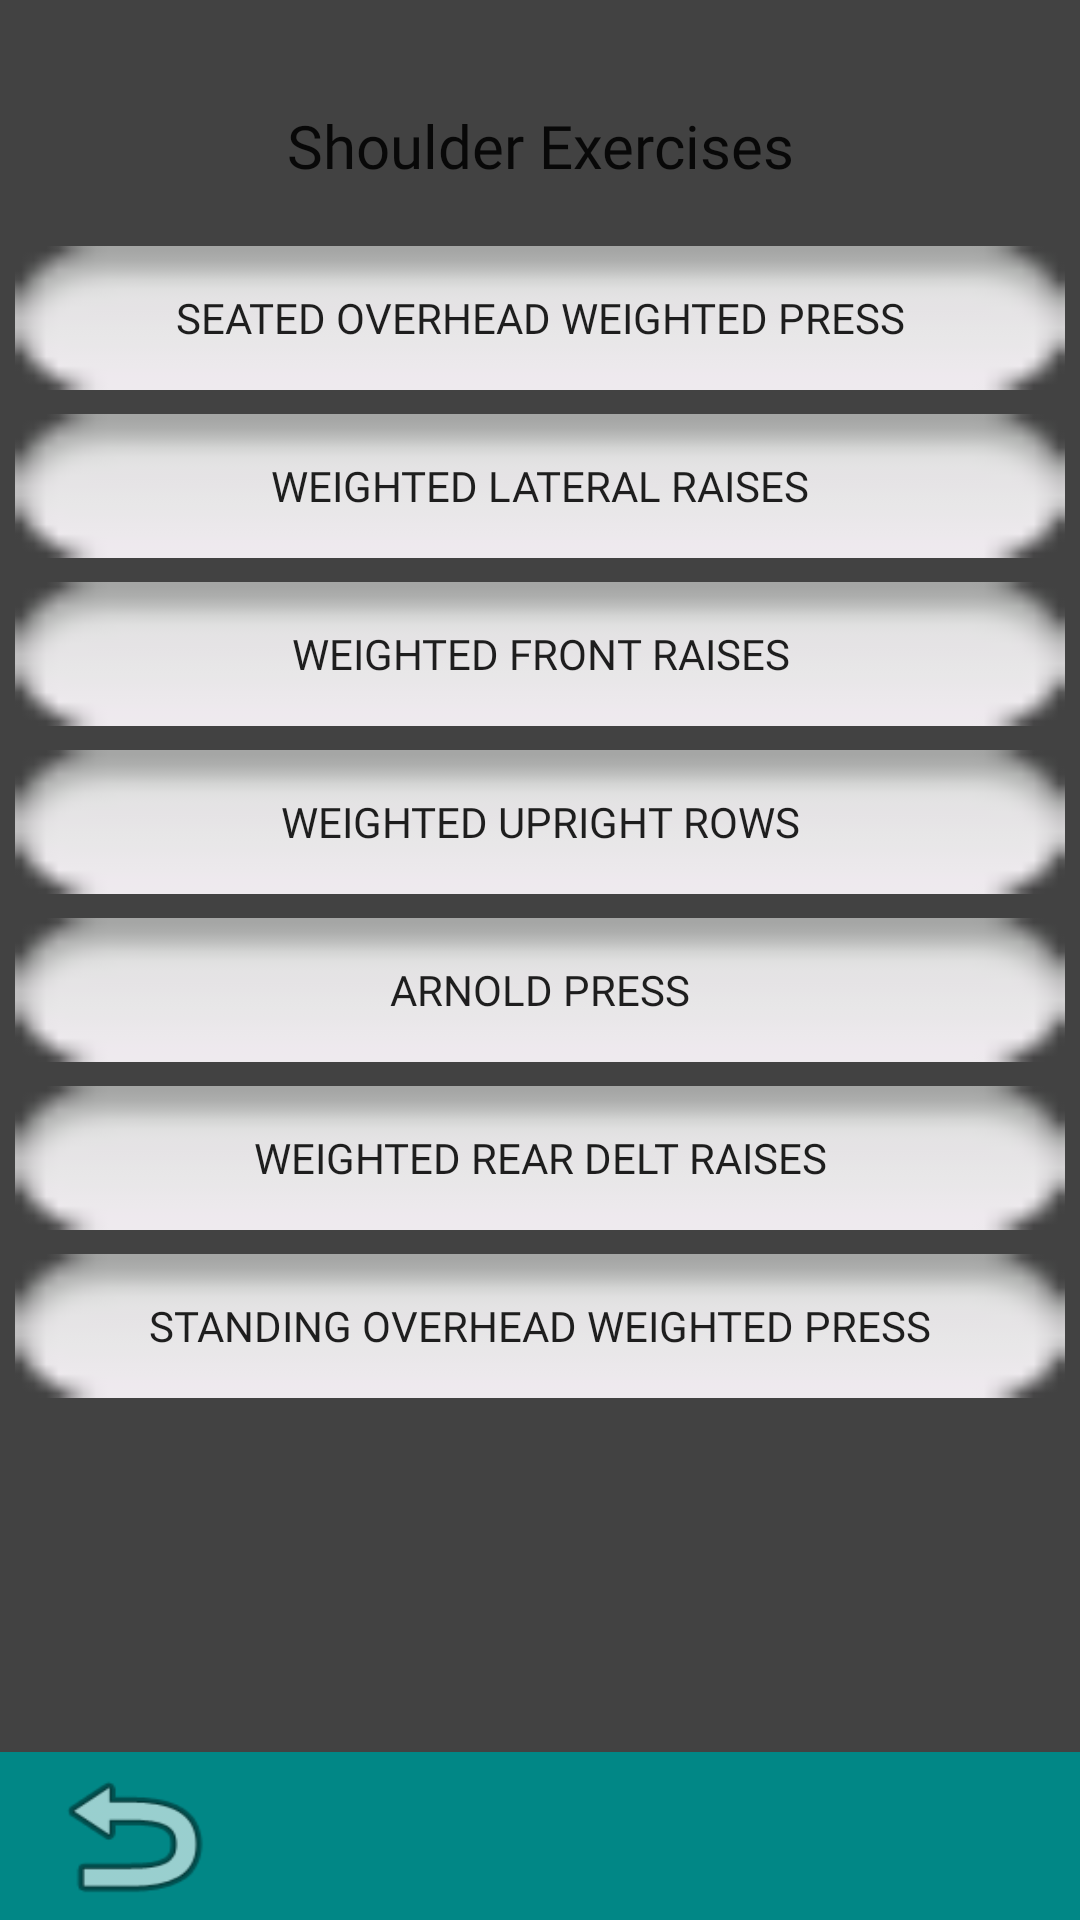

Icon bounding boxes for this 1080*1920 phone screenshot, format (x1, y1, x2, y2):
revert: (69, 1783, 202, 1892)
